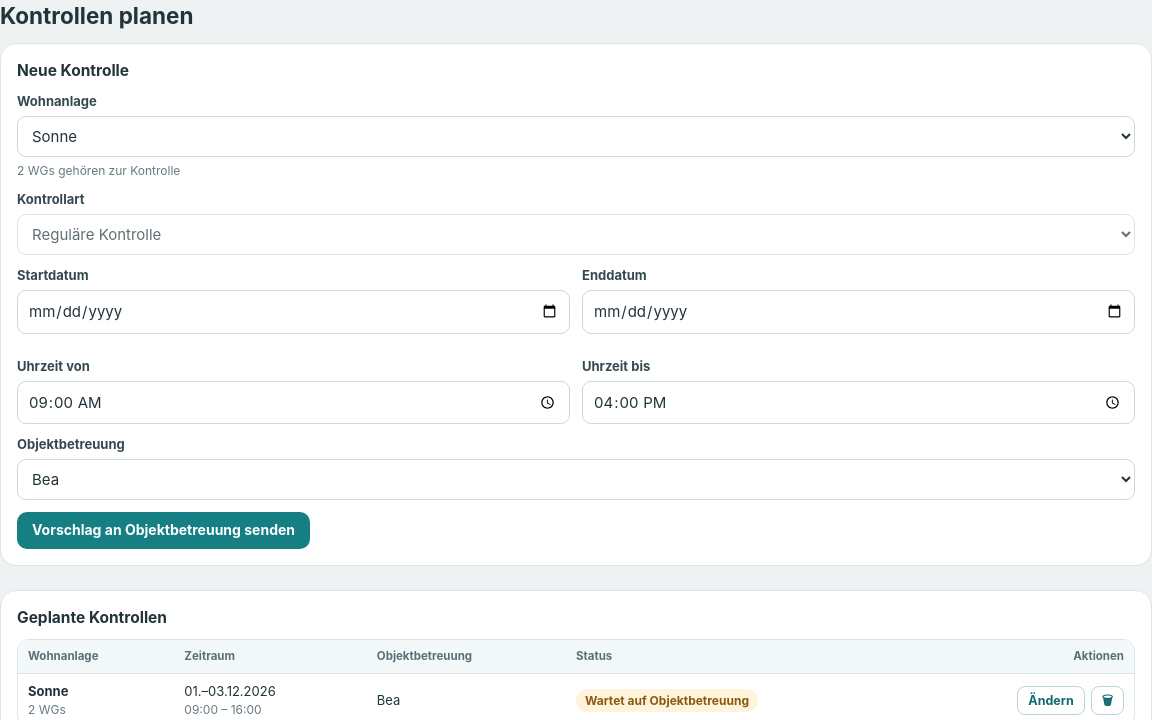
Test: keeps the proposal when withdrawing is cancelled
Click the button named "Vorschlag für Sonne zurückziehen". click: (1107, 700)
box: [1091,686,1124,715]
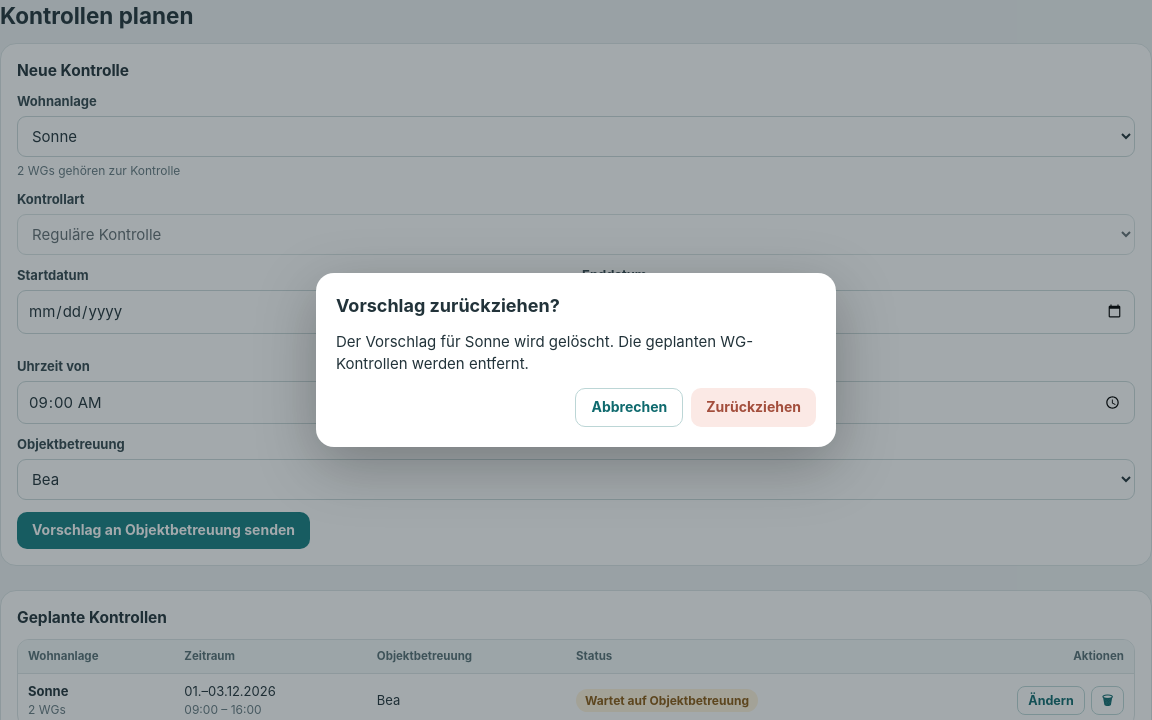
Click the button "Abbrechen". click: (629, 408)
box: [576,388,683,427]
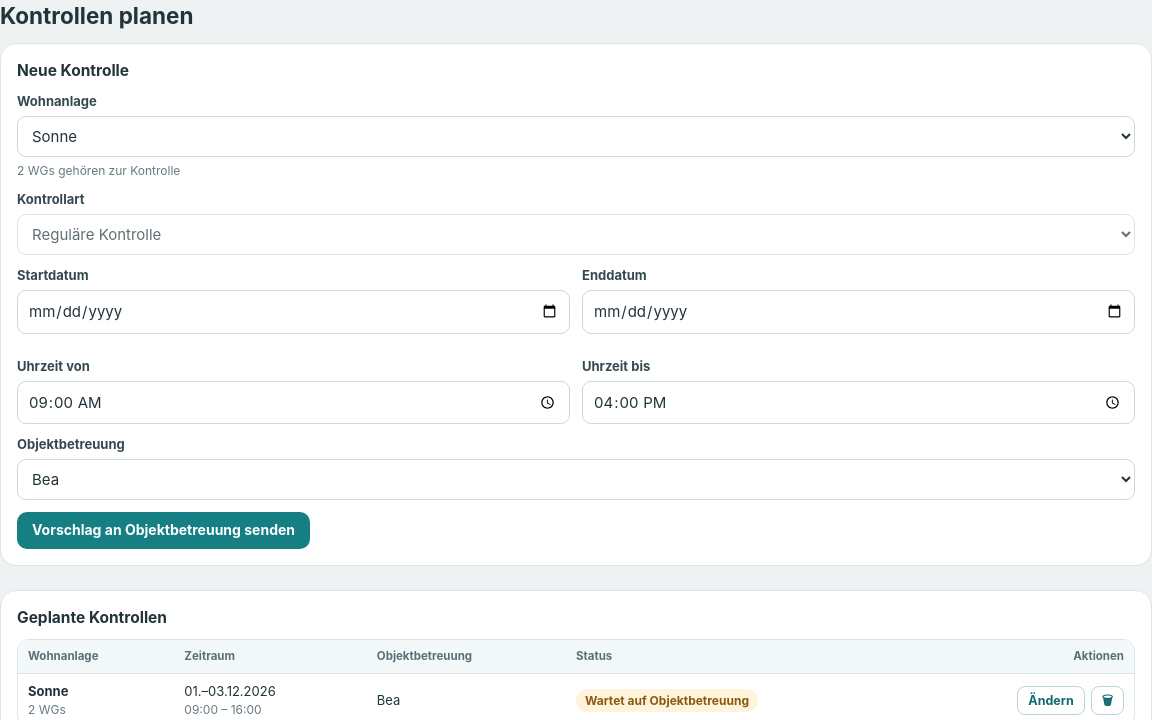
Check: the dialog is gone
